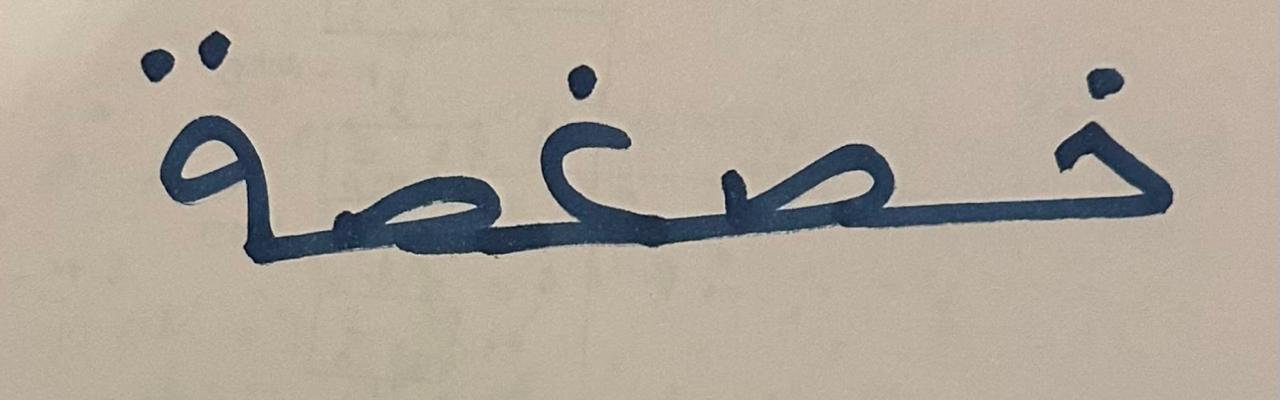ghain: (523, 7, 676, 309)
lam: (931, 9, 1216, 312)
seen: (680, 32, 929, 315), (299, 48, 518, 310)
thal: (120, 4, 296, 328)
